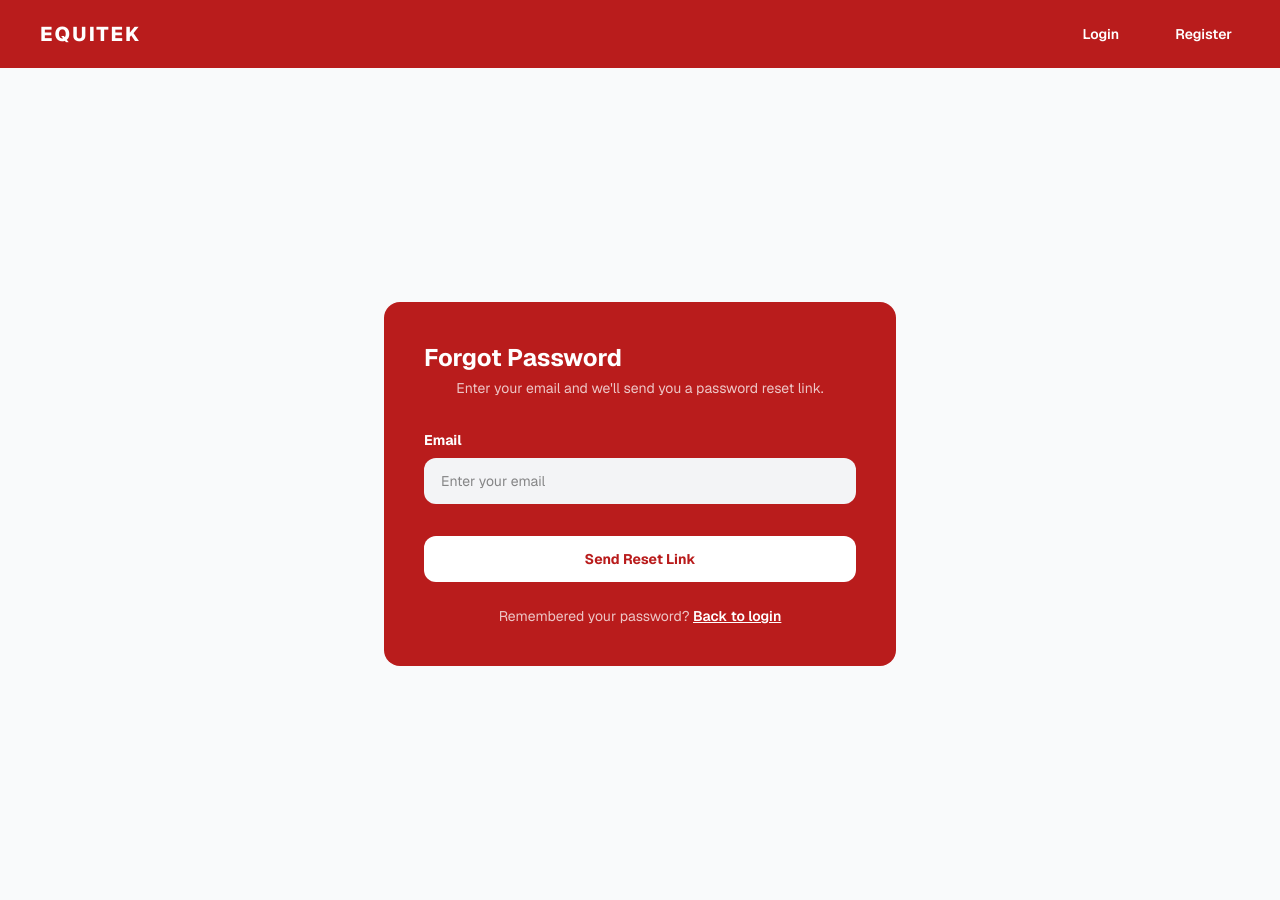
Test case: ForgotPasswordPage › does not submit when the email is empty
What coordinates should you click on to do the following:
click the button "Send Reset Link"
I would click on:
 (640, 559)
Its box is left=424, top=536, right=856, bottom=582.
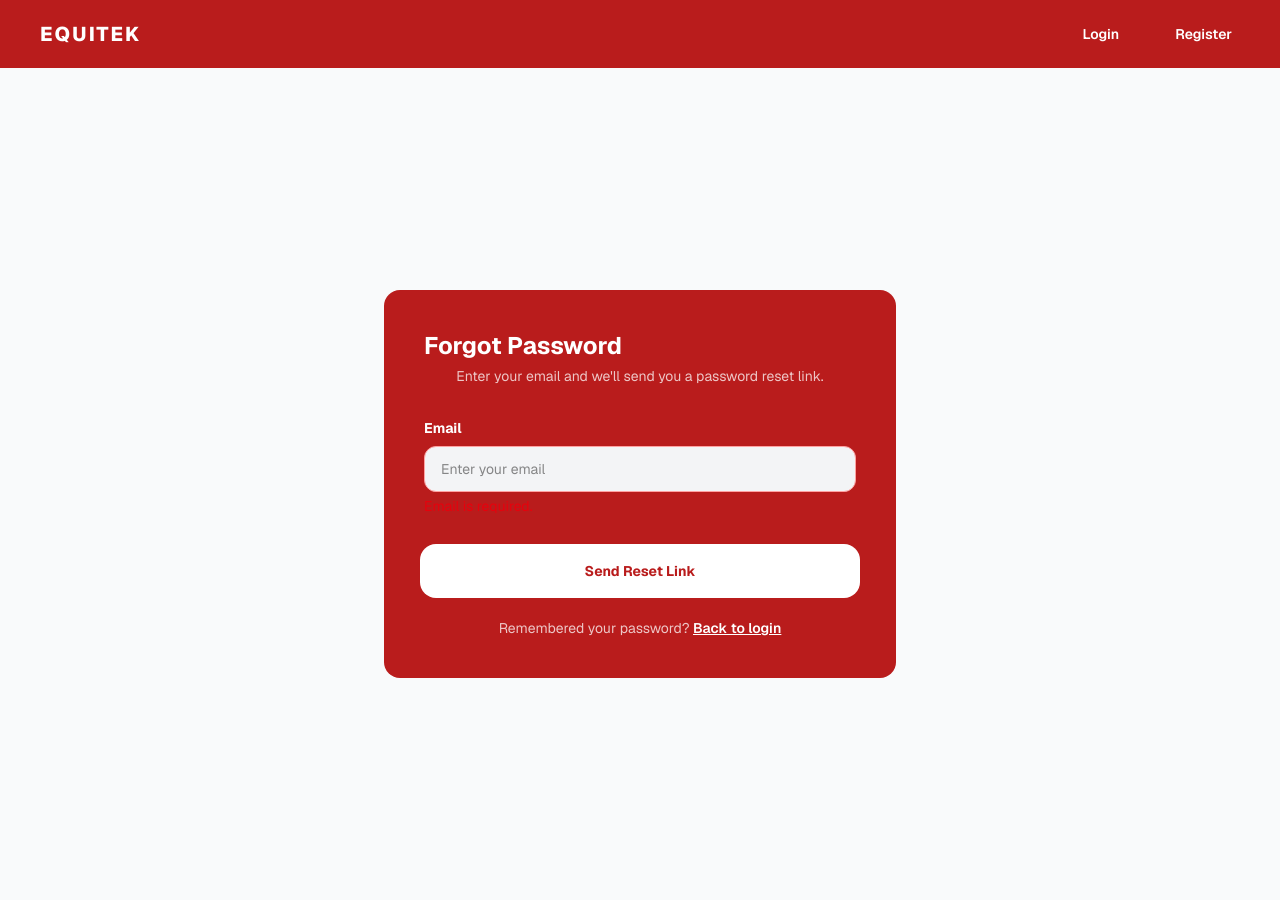
Now the text "Email is required." is shown, box left=424, top=497, right=532, bottom=515
